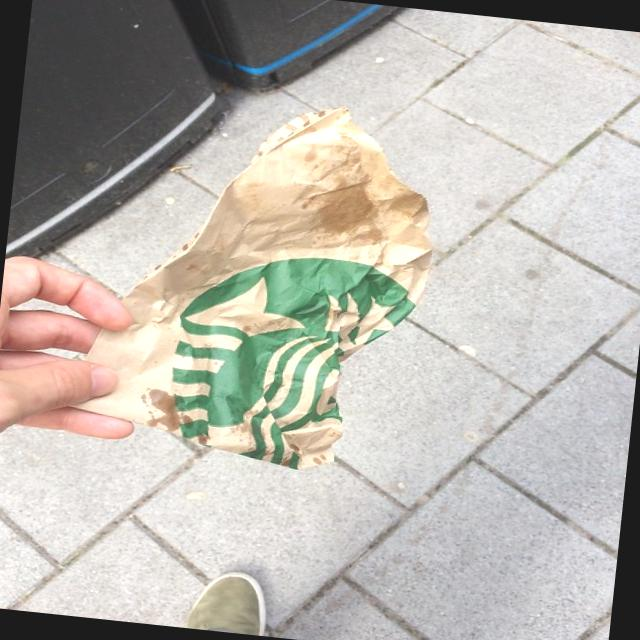Recycle: (71, 82, 448, 478)
